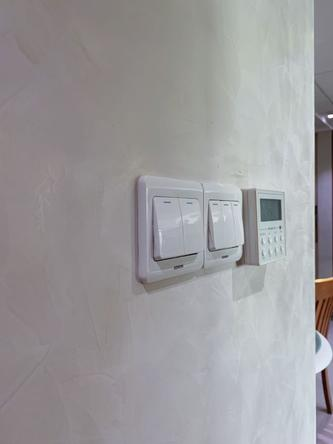switch: (150, 195, 182, 260), (182, 197, 204, 257), (211, 198, 223, 250), (221, 199, 233, 248), (231, 201, 243, 247)
